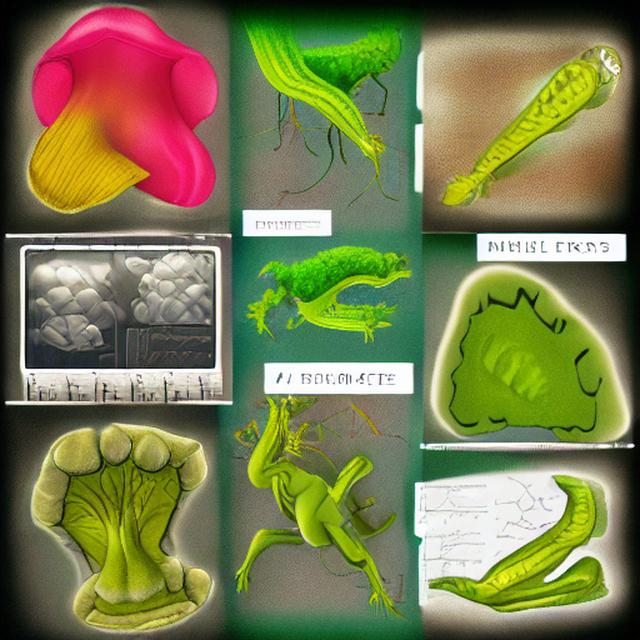Graph: (136, 326, 216, 369), (415, 484, 491, 529)
